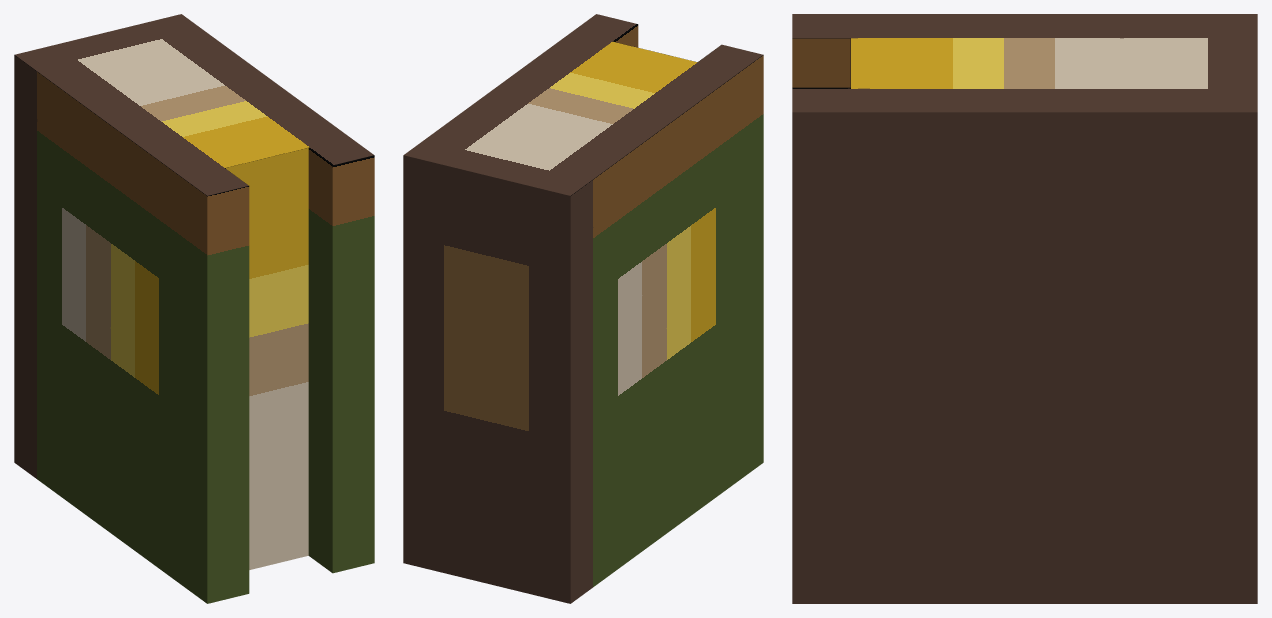
Rendered from book_0x282_08.glb.
The picture shows the model from 3 angles, left to right: view 1: azimuth 30°, elevation 25°; view 2: azimuth 150°, elevation 25°; view 3: azimuth 270°, elevation 25°; orthographic projection. The views are drawn at different scales.
Visible parts, largest first — view 1: Cube; view 2: Cube; view 3: Cube.
Part boxes in pixels (x1,y1,x2,y2): Cube: (14,14,374,603); Cube: (403,14,763,603); Cube: (792,14,1257,603).
Size of the model in its own units: 0.25 by 0.5833 by 0.5.
Materials: 1 (1 with a texture image).
